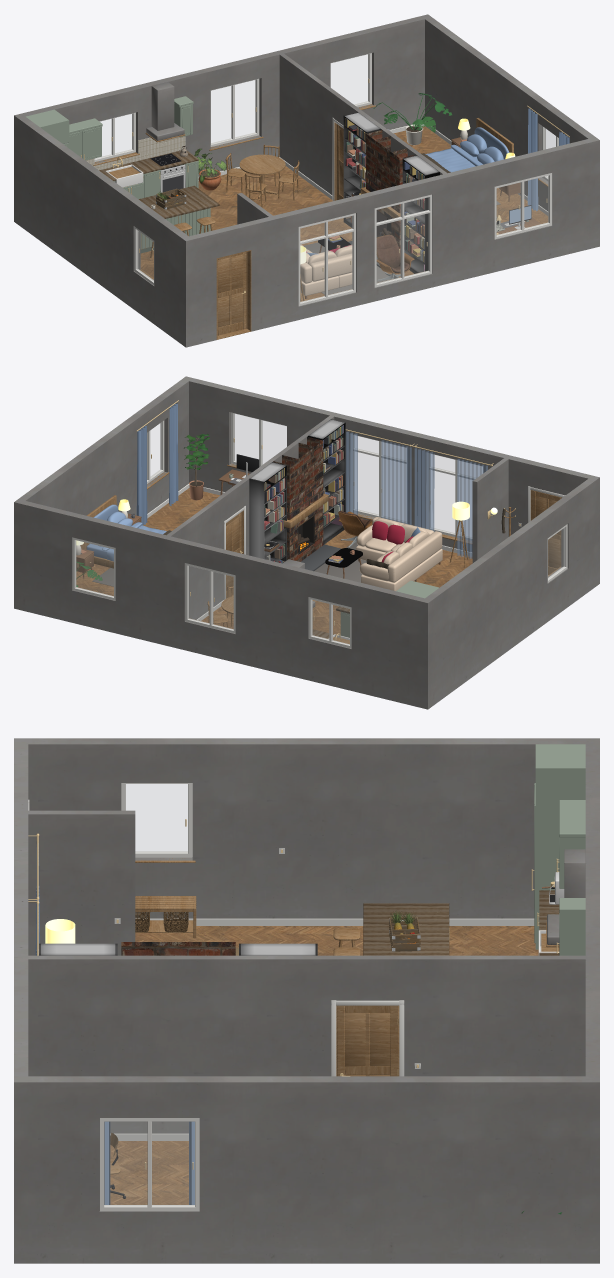
File: cozy-house.glb
3 renders of one model, top to bottom at view 1: azimuth 30°, elevation 25°; view 2: azimuth 150°, elevation 25°; view 3: azimuth 270°, elevation 25°, orthographic. The views are drawn at different scales.
Parts seen in each view (by area): view 1: SM_Walls_Exterior_Skin, SM_Walls_Plaster, SM_Window_Glass, SM_Window_Frames, SM_Floor_Herringbone, SM_Fireplace, INT_Door_Front_Oak, SM_Kitchen_UpperCabinets, SM_Sofa_L_Boucle, SM_Kitchen_Island_ButcherBlock, SM_Bed_Bedding_Layered, SM_Bookshelf_South_Oak (+20 smaller); view 2: SM_Walls_Exterior_Skin, SM_Walls_Plaster, SM_Window_Glass, SM_Curtains_And_Rods, SM_Window_Frames, SM_Fireplace, SM_Floor_Herringbone, SM_Sofa_L_Boucle, SM_Bookshelf_North_Oak, SM_Bookshelf_South_Oak, SM_Bookshelf_South_Oak_Books_Static, SM_Bookshelf_North_Oak_Books_Static (+11 smaller); view 3: SM_Walls_Plaster, SM_Walls_Exterior_Skin, SM_Window_Glass, SM_Floor_Herringbone, SM_Fridge_TallUnit, SM_Kitchen_UpperCabinets, INT_Door_Bedroom_Oak, SM_Kitchen_Island_ButcherBlock, SM_Window_Frames, SM_Baseboards, SM_Fireplace, SM_Curtains_And_Rods (+6 smaller).
Boxes of the visible parts, box(x1,y1,x2,y2) form: SM_Walls_Exterior_Skin: box(14, 14, 599, 347); SM_Walls_Plaster: box(55, 19, 587, 306); SM_Window_Glass: box(95, 54, 555, 301); SM_Window_Frames: box(94, 53, 558, 305); SM_Floor_Herringbone: box(140, 126, 548, 301); SM_Fireplace: box(348, 130, 415, 267); INT_Door_Front_Oak: box(217, 252, 246, 335); SM_Kitchen_UpperCabinets: box(69, 82, 193, 142); SM_Sofa_L_Boucle: box(300, 244, 352, 298); SM_Kitchen_Island_ButcherBlock: box(139, 185, 219, 253); SM_Bed_Bedding_Layered: box(421, 134, 503, 173); SM_Bookshelf_South_Oak: box(402, 155, 439, 273); SM_Walls_Exterior_Skin: box(14, 376, 599, 709); SM_Walls_Plaster: box(26, 381, 587, 648); SM_Window_Glass: box(76, 414, 564, 644); SM_Curtains_And_Rods: box(136, 400, 493, 558); SM_Window_Frames: box(72, 412, 567, 648); SM_Fireplace: box(273, 436, 341, 571); SM_Floor_Herringbone: box(76, 488, 472, 635); SM_Sofa_L_Boucle: box(356, 517, 442, 591); SM_Bookshelf_North_Oak: box(249, 462, 286, 561); SM_Bookshelf_South_Oak: box(308, 419, 345, 544); SM_Bookshelf_South_Oak_Books_Static: box(323, 425, 343, 526); SM_Bookshelf_North_Oak_Books_Static: box(264, 468, 285, 563); SM_Walls_Plaster: box(28, 744, 585, 1211); SM_Walls_Exterior_Skin: box(14, 738, 599, 1263); SM_Window_Glass: box(104, 784, 194, 1205); SM_Floor_Herringbone: box(110, 926, 538, 1204); SM_Fridge_TallUnit: box(535, 744, 585, 949); SM_Kitchen_UpperCabinets: box(546, 800, 585, 955); INT_Door_Bedroom_Oak: box(337, 1006, 398, 1076); SM_Kitchen_Island_ButcherBlock: box(363, 903, 449, 955); SM_Window_Frames: box(99, 783, 199, 1211); SM_Baseboards: box(110, 918, 534, 1140); SM_Fireplace: box(121, 942, 235, 955); SM_Curtains_And_Rods: box(28, 833, 194, 1204).
Bounding box in the file's own units: 11.43 × 2.8 × 8.2.
93 materials, 44 textured.
